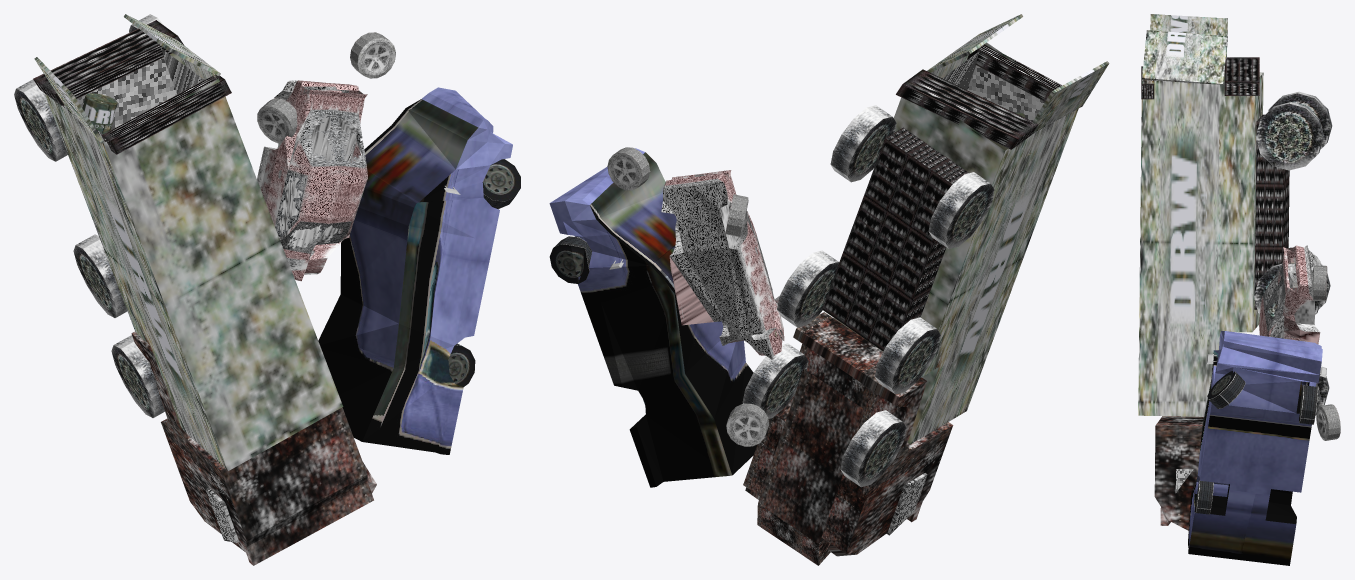
The model's file is threevehicleaccident_wtf.obj.
The picture shows the model from 3 angles, left to right: view 1: azimuth 30°, elevation 25°; view 2: azimuth 150°, elevation 25°; view 3: azimuth 270°, elevation 25°; orthographic projection. The views are drawn at different scales.
Parts seen in each view (by area): view 1: group49, group27, group51, group53, group60, group59, group22, group58, group57, group3, group56, group32 (+8 smaller); view 2: group27, group51, group49, group50, group53, group60, group58, group59, group22, group30, group36, group42 (+14 smaller); view 3: group49, group27, group58, group51, group53, group50, group34, group60, group3, group31, group55, group29 (+4 smaller).
Boxes of the visible parts, bbox=[...] form: group49: bbox=[45, 38, 343, 470]; group27: bbox=[318, 87, 512, 454]; group51: bbox=[131, 331, 376, 565]; group53: bbox=[257, 80, 367, 281]; group60: bbox=[33, 20, 183, 105]; group59: bbox=[63, 48, 206, 142]; group22: bbox=[102, 74, 231, 154]; group58: bbox=[34, 14, 220, 143]; group57: bbox=[350, 32, 395, 78]; group3: bbox=[482, 159, 520, 208]; group56: bbox=[257, 98, 297, 143]; group32: bbox=[14, 89, 57, 161]; group27: bbox=[549, 148, 757, 487]; group51: bbox=[743, 312, 953, 565]; group49: bbox=[823, 42, 1078, 444]; group50: bbox=[822, 127, 969, 351]; group53: bbox=[661, 170, 784, 359]; group60: bbox=[896, 69, 1038, 149]; group58: bbox=[927, 14, 1109, 132]; group59: bbox=[942, 49, 1044, 133]; group22: bbox=[967, 44, 1061, 101]; group30: bbox=[928, 172, 990, 248]; group36: bbox=[875, 317, 936, 393]; group42: bbox=[840, 410, 902, 486]; group49: bbox=[1138, 72, 1263, 416]; group27: bbox=[1188, 331, 1322, 565]; group58: bbox=[1142, 14, 1227, 84]; group51: bbox=[1154, 416, 1203, 530]; group53: bbox=[1259, 245, 1320, 344]; group50: bbox=[1254, 114, 1289, 309]; group34: bbox=[1255, 103, 1322, 170]; group60: bbox=[1224, 57, 1259, 95]; group3: bbox=[1207, 371, 1245, 408]; group31: bbox=[1268, 93, 1330, 149]; group55: bbox=[1316, 404, 1340, 440]; group29: bbox=[1299, 385, 1318, 424].
Size of the model in its own units: 605 by 660 by 267.
